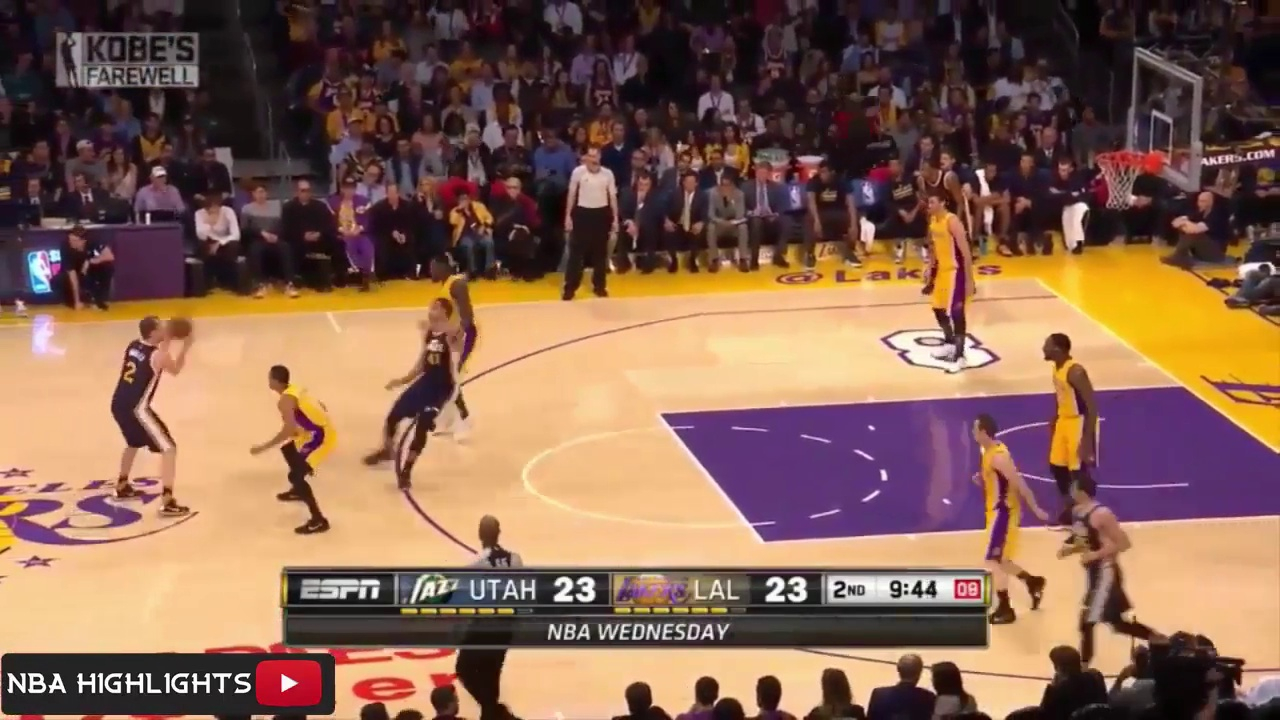jazz: (1064, 480, 1169, 671), (368, 302, 468, 484), (112, 311, 202, 512), (913, 152, 969, 222)
lakers: (247, 358, 361, 534), (976, 412, 1050, 622), (1027, 327, 1108, 496), (431, 251, 484, 443), (929, 202, 984, 364)
